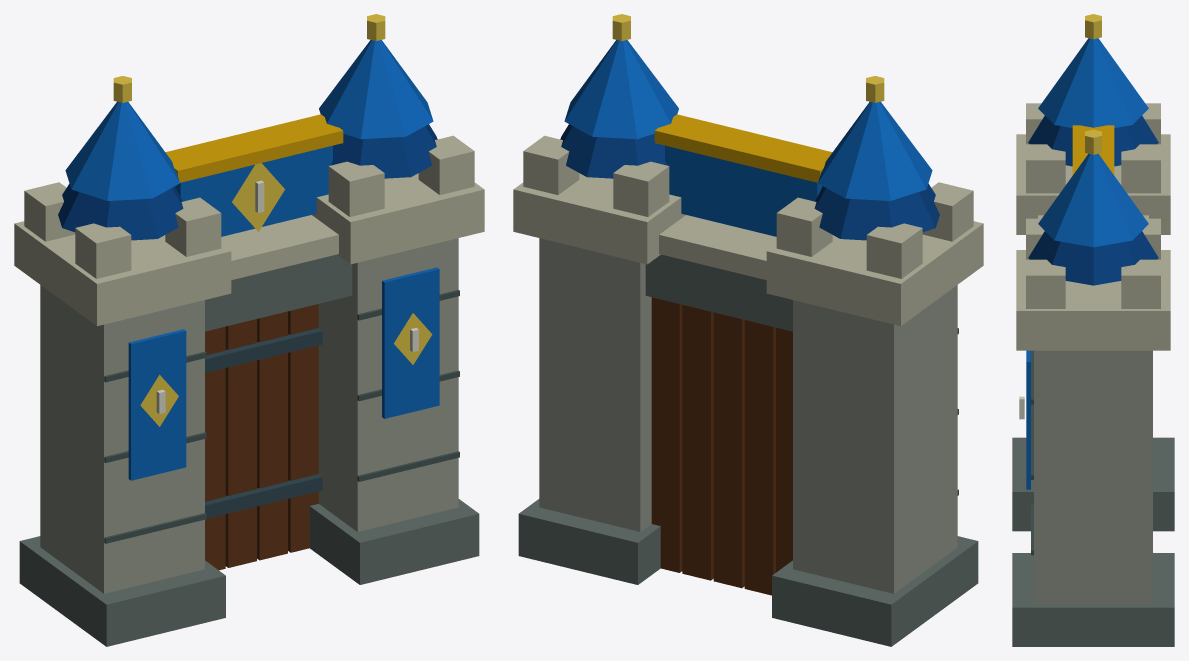
The model's file is castle_gate_l3.fbx.
The picture shows the model from 3 angles, left to right: view 1: azimuth 30°, elevation 25°; view 2: azimuth 150°, elevation 25°; view 3: azimuth 270°, elevation 25°; orthographic projection. The views are drawn at different scales.
Parts seen in each view (by area): view 1: castle_gate_l3; view 2: castle_gate_l3; view 3: castle_gate_l3.
Part boxes in pixels (<box>): castle_gate_l3: <box>14,14,484,646</box>; castle_gate_l3: <box>513,14,983,646</box>; castle_gate_l3: <box>1012,14,1174,646</box>.
Bounding box in the file's own units: 2.11 × 2.71 × 0.82.
